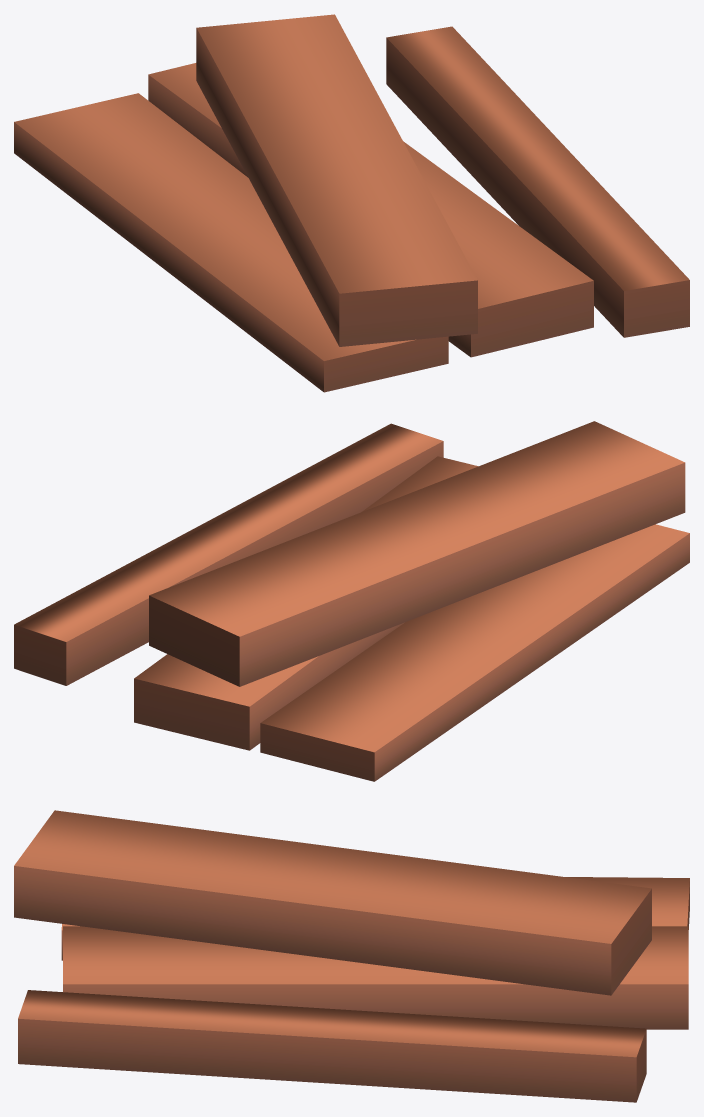
Rendered from kenney-pirate-platform-planks.glb.
3 renders of one model, top to bottom at view 1: azimuth 30°, elevation 25°; view 2: azimuth 150°, elevation 25°; view 3: azimuth 270°, elevation 25°, orthographic. The views are drawn at different scales.
Parts seen in each view (by area): view 1: platform-planks; view 2: platform-planks; view 3: platform-planks.
Boxes of the visible parts, x1=… form: platform-planks: x1=14, y1=14, x2=689, y2=392; platform-planks: x1=14, y1=421, x2=689, y2=781; platform-planks: x1=14, y1=810, x2=689, y2=1102.
Size of the model in its own units: 1.89 by 0.4279 by 2.7.
Materials: 1 (1 with a texture image).
